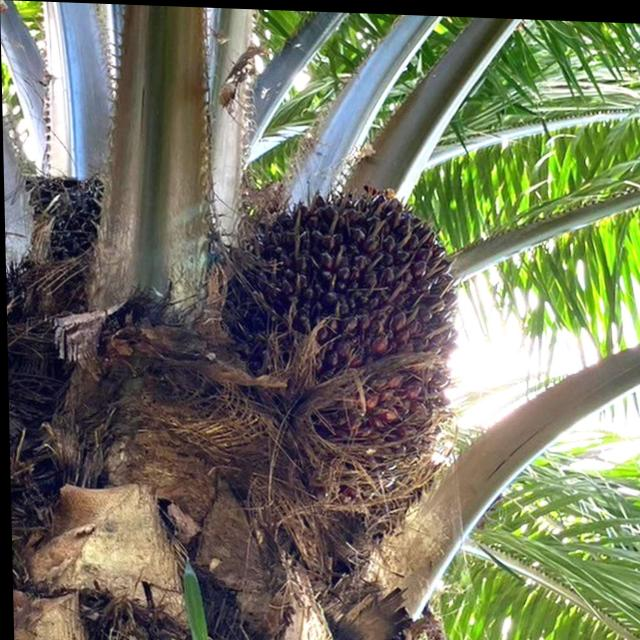ripe: (203, 164, 467, 531)
